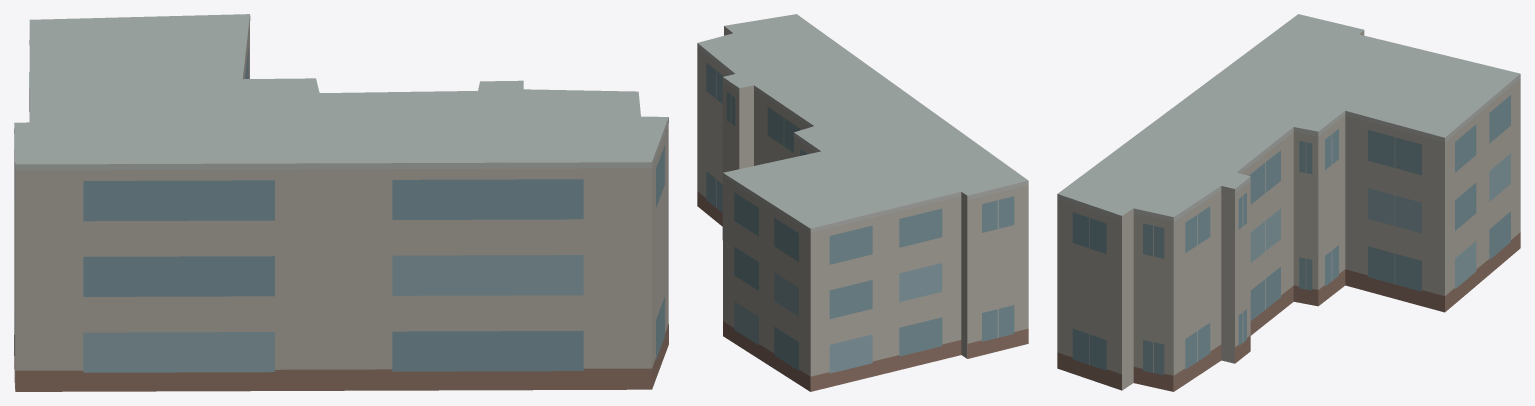
Rendered from survey-upis-32903433.glb.
3 renders of one model, left to right at view 1: azimuth 30°, elevation 25°; view 2: azimuth 150°, elevation 25°; view 3: azimuth 270°, elevation 25°, orthographic. The views are drawn at different scales.
Visible parts, largest first — view 1: survey-upis-32903433.tmp; view 2: survey-upis-32903433.tmp; view 3: survey-upis-32903433.tmp.
Part boxes in pixels (<box>): survey-upis-32903433.tmp: <box>14,14,668,391</box>; survey-upis-32903433.tmp: <box>697,14,1028,391</box>; survey-upis-32903433.tmp: <box>1057,14,1520,391</box>.
Size of the model in its own units: 22.97 by 9.2 by 22.12.
